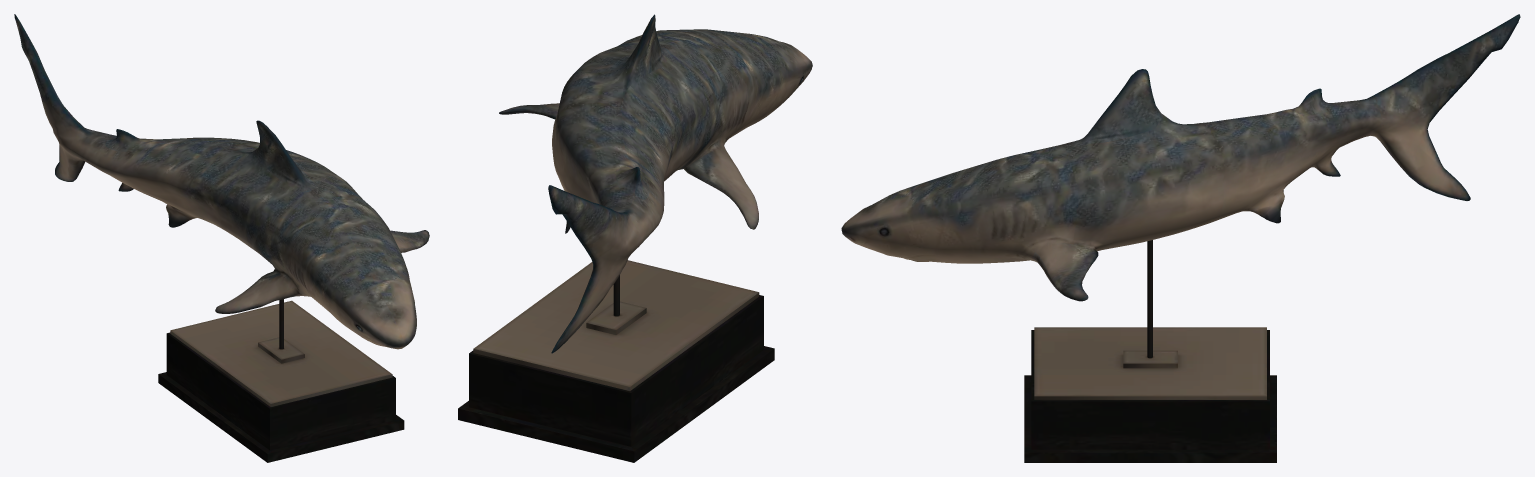
The model's file is bronze_shark_statue.glb.
The picture shows the model from 3 angles, left to right: view 1: azimuth 30°, elevation 25°; view 2: azimuth 150°, elevation 25°; view 3: azimuth 270°, elevation 25°; orthographic projection. The views are drawn at different scales.
Visible parts, largest first — view 1: bronze_shark_statue; view 2: bronze_shark_statue; view 3: bronze_shark_statue.
Part boxes in pixels (x1=…): bronze_shark_statue: x1=14, y1=14, x2=429, y2=462; bronze_shark_statue: x1=458, y1=14, x2=812, y2=462; bronze_shark_statue: x1=841, y1=14, x2=1520, y2=462.
Bounding box in the file's own units: 0.3519 × 0.4316 × 0.7598.
1 material, 1 textured.
